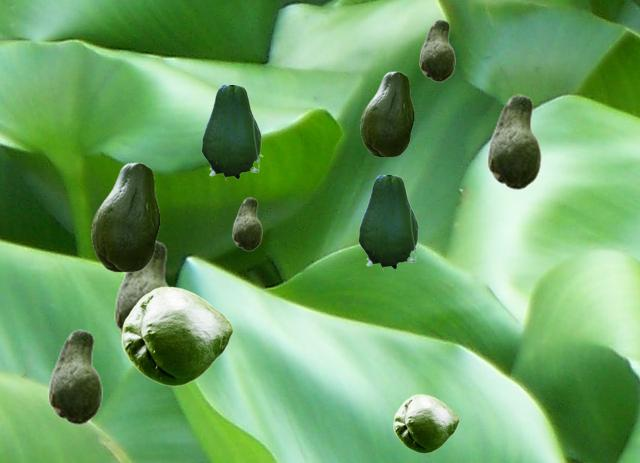sayote: (121, 286, 232, 385), (91, 162, 159, 271), (201, 85, 262, 180), (358, 175, 419, 270), (114, 239, 172, 338), (48, 329, 101, 424), (487, 94, 540, 189), (360, 71, 413, 156), (393, 394, 458, 452), (419, 19, 454, 81), (232, 197, 261, 250)
